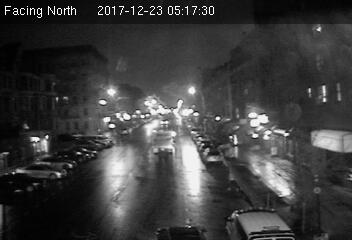car: (201, 147, 228, 165)
police: (227, 204, 296, 240)
